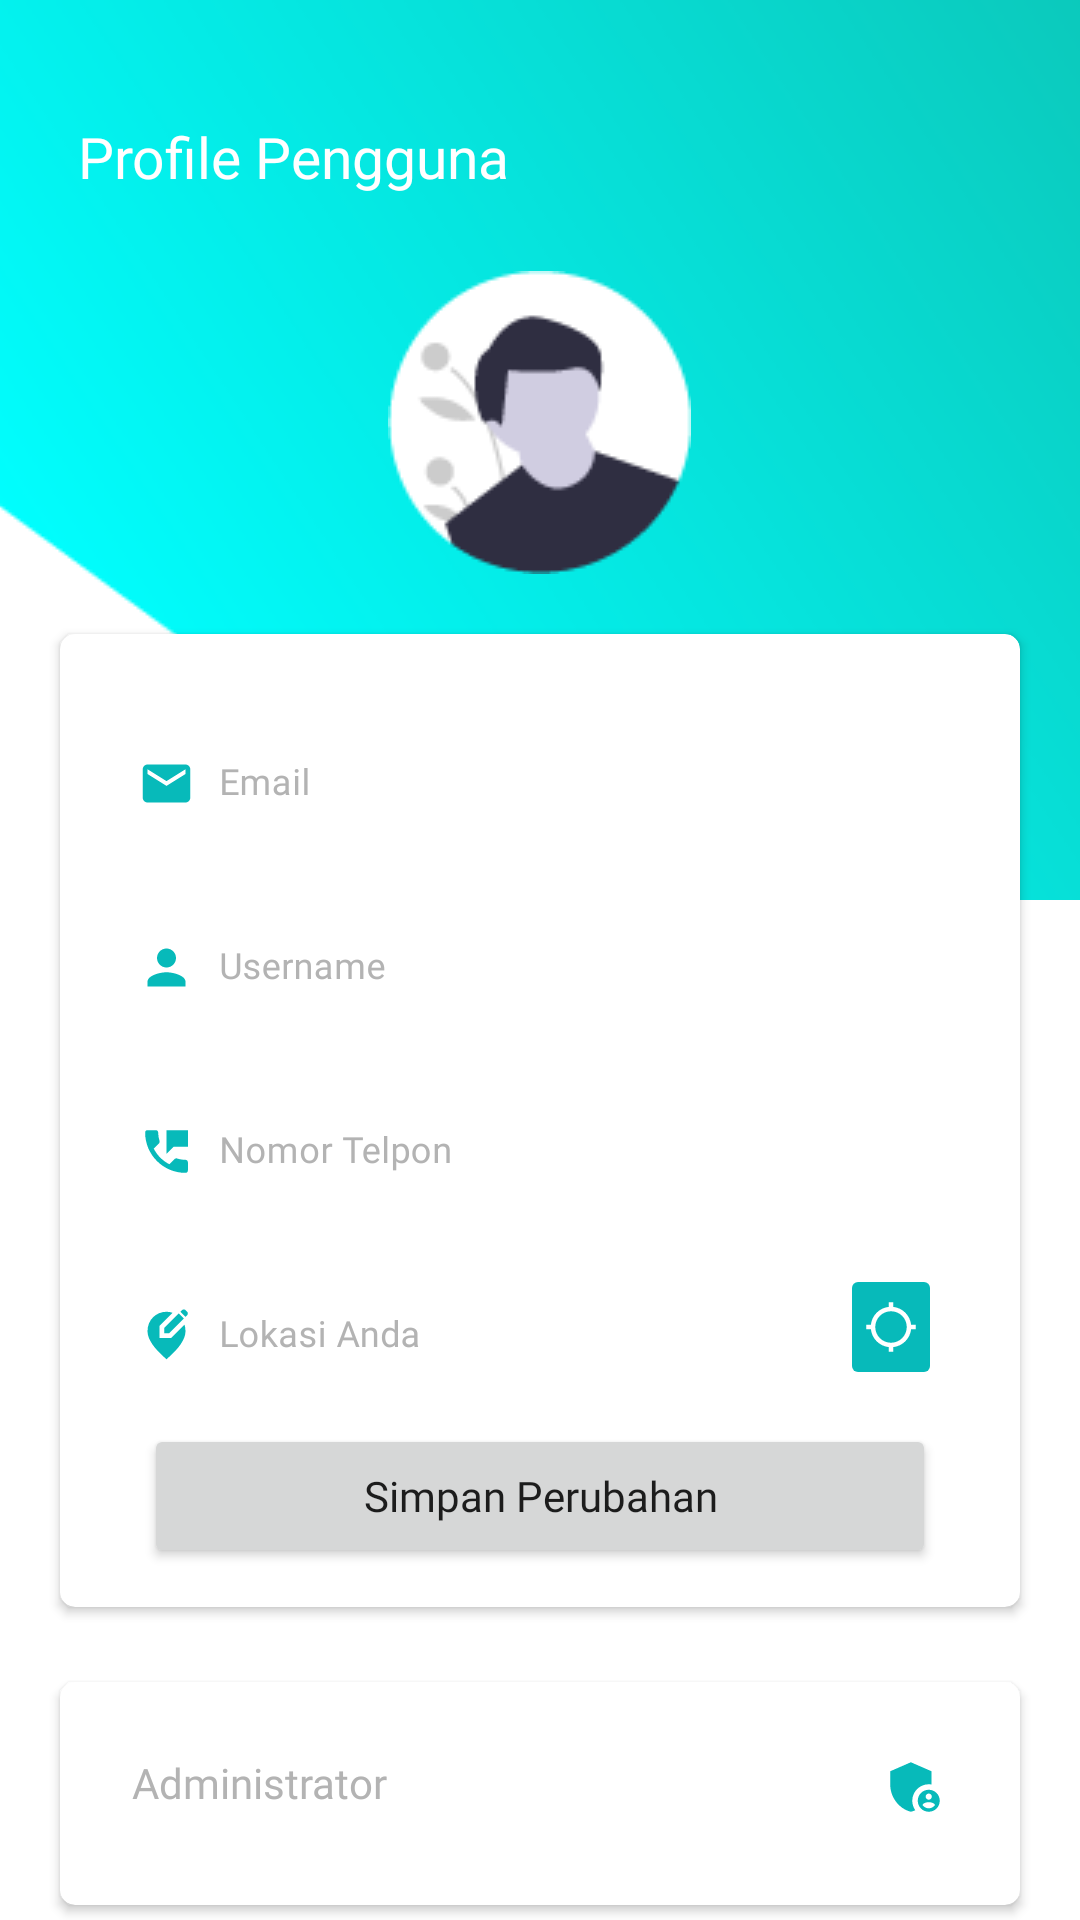

Where icons sit on this 1080 x 1920 app screen, as (x1, y1, x2, y2):
location searching: (852, 1282, 930, 1372)
